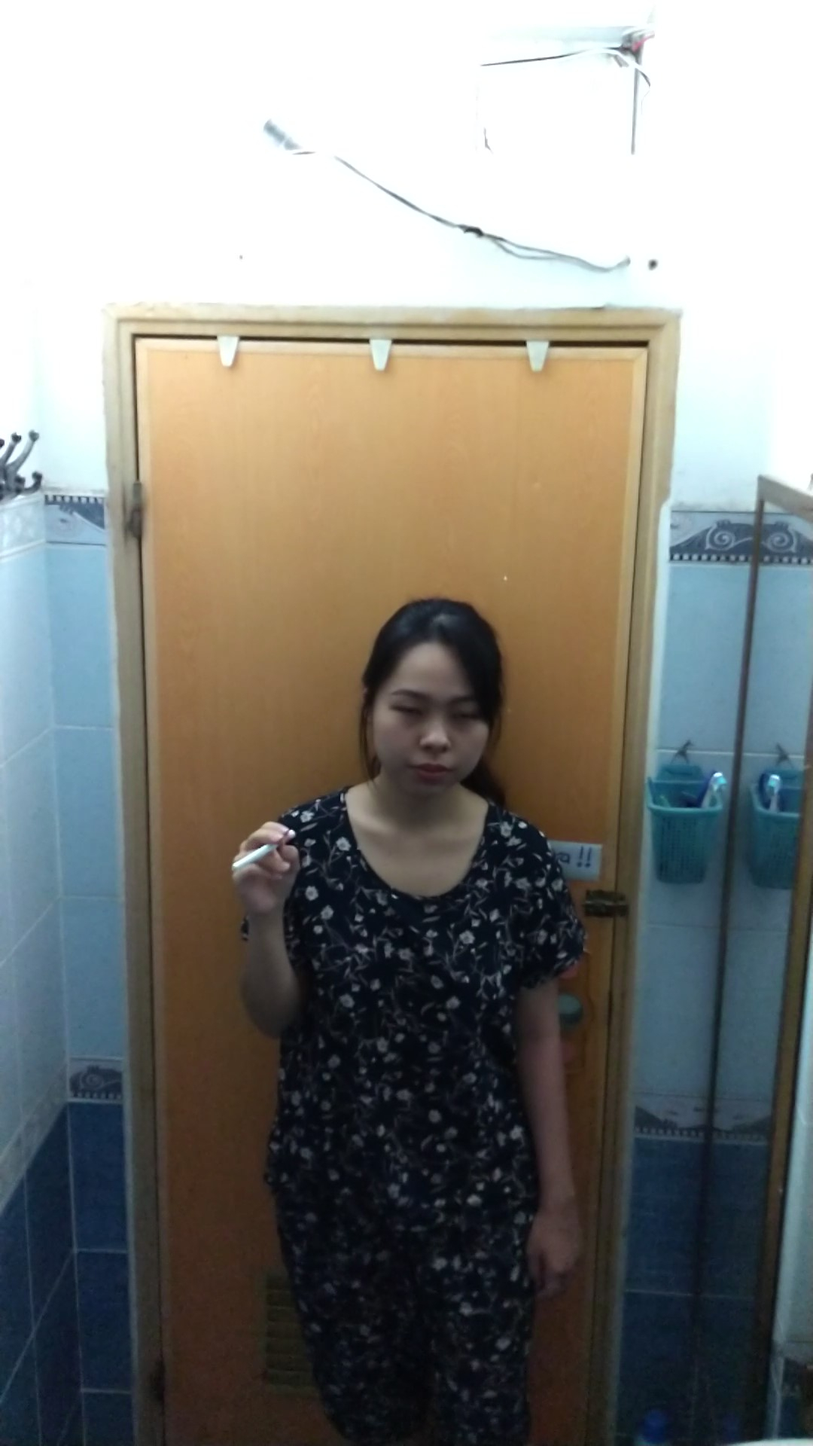cigarette: (226, 840, 277, 875)
person: (217, 587, 597, 1446)
